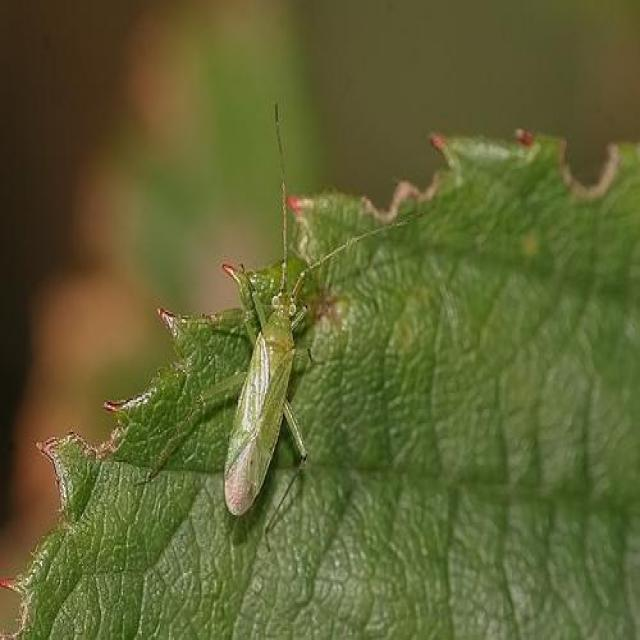Miridae-Adult-: (172, 101, 412, 531)
